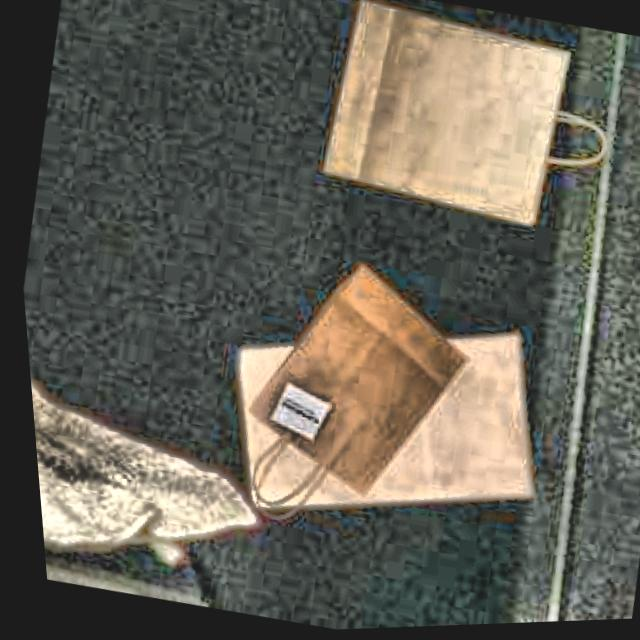Paper-bag: (163, 270, 586, 581), (291, 0, 640, 255), (209, 241, 482, 558)
